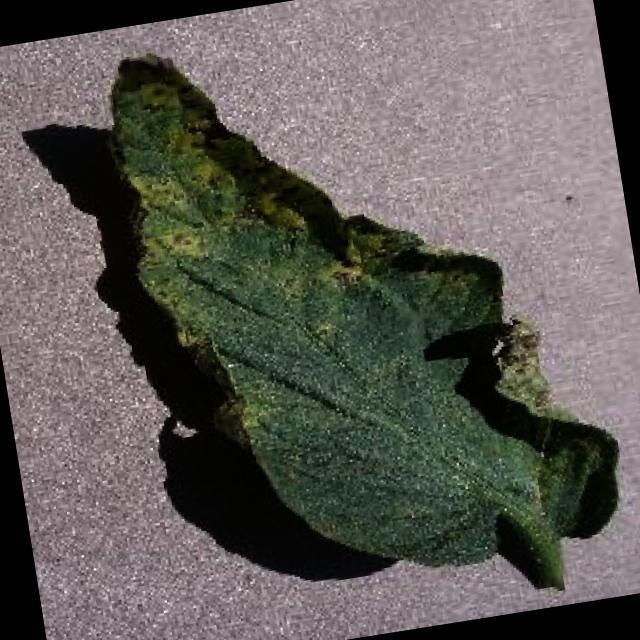Tomato Septoria spot leaf: (98, 0, 635, 613)
